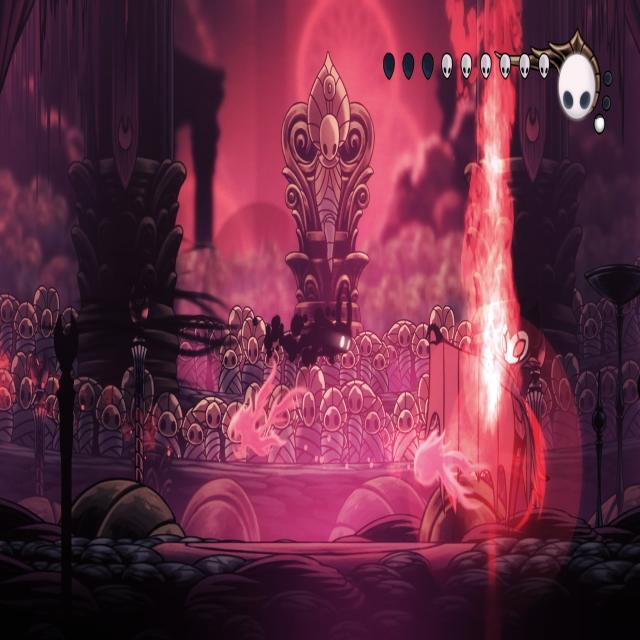Fire Bat: (228, 360, 300, 460), (414, 429, 479, 511)
Open Cloak: (422, 289, 552, 539)
Player: (315, 280, 355, 369)
